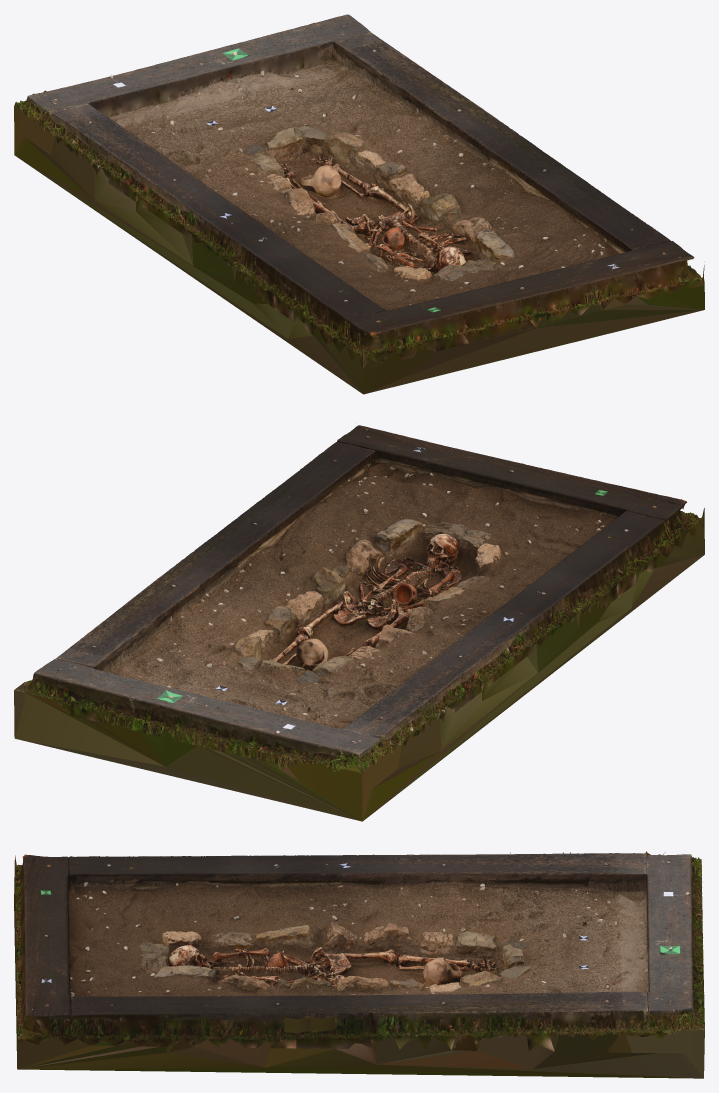
The model's file is sf-skeleton-excavation-dataset-bcefcc.glb.
3 views of the same model, one above another, from view 1: azimuth 30°, elevation 25°; view 2: azimuth 150°, elevation 25°; view 3: azimuth 270°, elevation 25° (orthographic).
Parts seen in each view (by area): view 1: zephyr-skeleton_zephyr-skeleton_u1_v1_0, zephyr-skeleton_zephyr-skeleton_u2_v1_0, zephyr-skeleton_zephyr-skeleton_u1_v2_0, zephyr-skeleton_zephyr-skeleton_u2_v2_0; view 2: zephyr-skeleton_zephyr-skeleton_u1_v1_0, zephyr-skeleton_zephyr-skeleton_u2_v1_0, zephyr-skeleton_zephyr-skeleton_u1_v2_0, zephyr-skeleton_zephyr-skeleton_u2_v2_0; view 3: zephyr-skeleton_zephyr-skeleton_u1_v1_0, zephyr-skeleton_zephyr-skeleton_u1_v2_0, zephyr-skeleton_zephyr-skeleton_u2_v1_0, zephyr-skeleton_zephyr-skeleton_u2_v2_0.
Boxes of the visible parts, left/top/right/bottom form: zephyr-skeleton_zephyr-skeleton_u1_v1_0: left=14, top=22, right=704, bottom=394; zephyr-skeleton_zephyr-skeleton_u2_v1_0: left=16, top=14, right=700, bottom=368; zephyr-skeleton_zephyr-skeleton_u1_v2_0: left=15, top=27, right=701, bottom=354; zephyr-skeleton_zephyr-skeleton_u2_v2_0: left=14, top=41, right=704, bottom=368; zephyr-skeleton_zephyr-skeleton_u1_v1_0: left=14, top=425, right=704, bottom=821; zephyr-skeleton_zephyr-skeleton_u2_v1_0: left=26, top=432, right=702, bottom=762; zephyr-skeleton_zephyr-skeleton_u1_v2_0: left=24, top=431, right=704, bottom=769; zephyr-skeleton_zephyr-skeleton_u2_v2_0: left=14, top=445, right=704, bottom=772; zephyr-skeleton_zephyr-skeleton_u1_v1_0: left=14, top=851, right=704, bottom=1078; zephyr-skeleton_zephyr-skeleton_u1_v2_0: left=15, top=852, right=704, bottom=1040; zephyr-skeleton_zephyr-skeleton_u2_v1_0: left=14, top=851, right=704, bottom=1050; zephyr-skeleton_zephyr-skeleton_u2_v2_0: left=15, top=856, right=704, bottom=1051.
Bounding box in the file's own units: 1.49 × 0.2699 × 2.56.
Materials: 4 (4 with a texture image).
